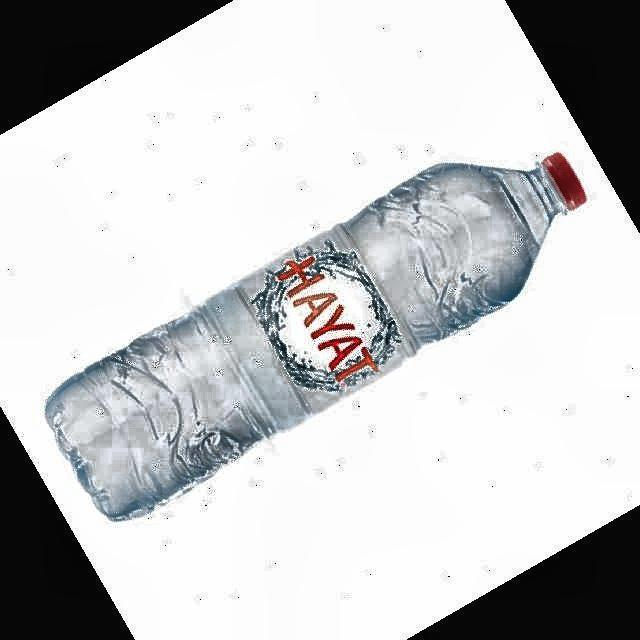plastic: (46, 155, 583, 519)
